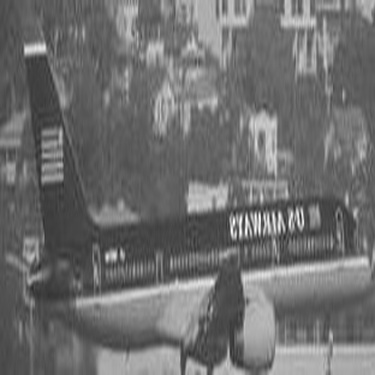airplane: (14, 37, 351, 362)
